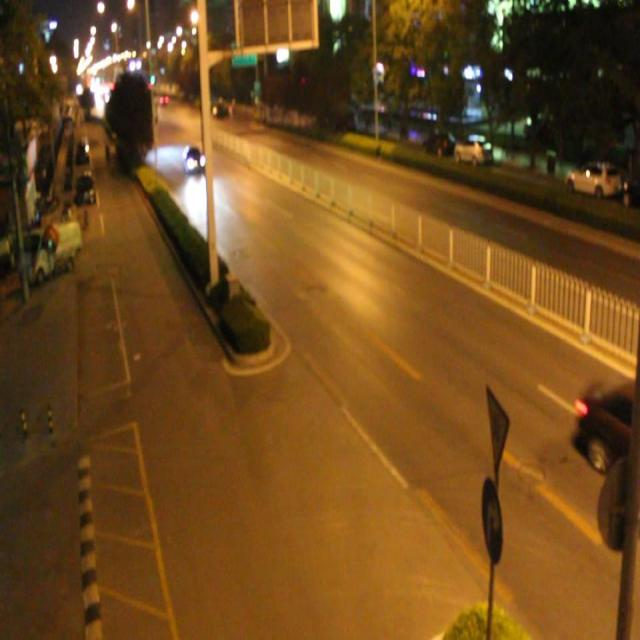car: (182, 142, 206, 174)
